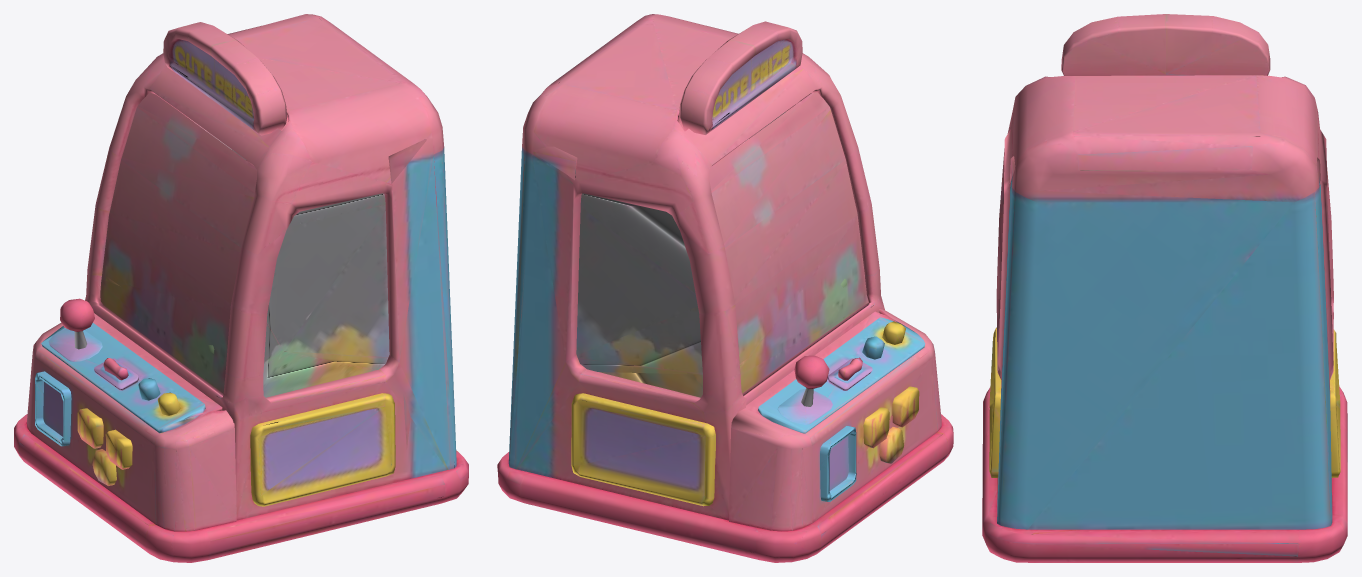
File: claw-machine.glb
3 renders of one model, left to right at view 1: azimuth 30°, elevation 25°; view 2: azimuth 150°, elevation 25°; view 3: azimuth 270°, elevation 25°, orthographic. The views are drawn at different scales.
Visible parts, largest first — view 1: geometry_0; view 2: geometry_0; view 3: geometry_0.
Boxes of the visible parts, bbox=[...] form: geometry_0: bbox=[14, 14, 468, 562]; geometry_0: bbox=[497, 14, 953, 562]; geometry_0: bbox=[982, 14, 1347, 562].
Bounding box in the file's own units: 0.7701 × 1 × 0.7273.
Materials: 1 (1 with a texture image).
